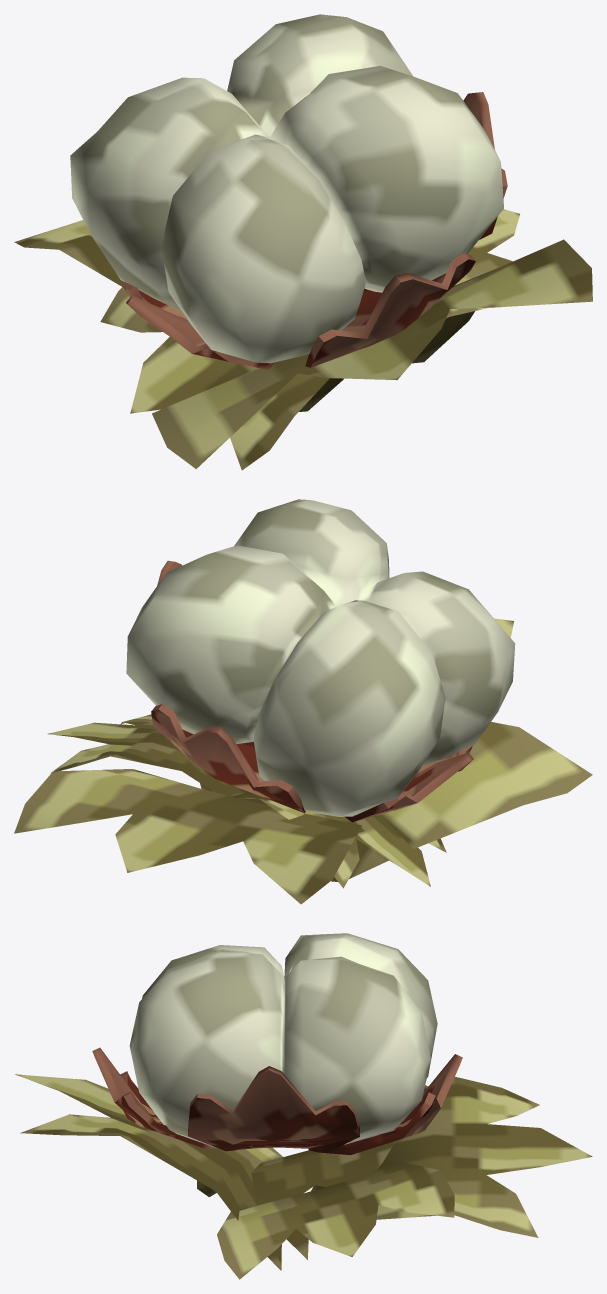
Rendered from cotton_drop.fbx.
The picture shows the model from 3 angles, top to bottom: view 1: azimuth 30°, elevation 25°; view 2: azimuth 150°, elevation 25°; view 3: azimuth 270°, elevation 25°; orthographic projection. The views are drawn at different scales.
Visible parts, largest first — view 1: cotton; view 2: cotton; view 3: cotton.
Boxes of the visible parts, box(x1,y1,x2,y2) form: cotton: box(14, 14, 592, 470); cotton: box(14, 499, 592, 904); cotton: box(15, 933, 592, 1279).
Bounding box in the file's own units: 1.91 × 1.42 × 2.42.
1 material, 1 textured.
